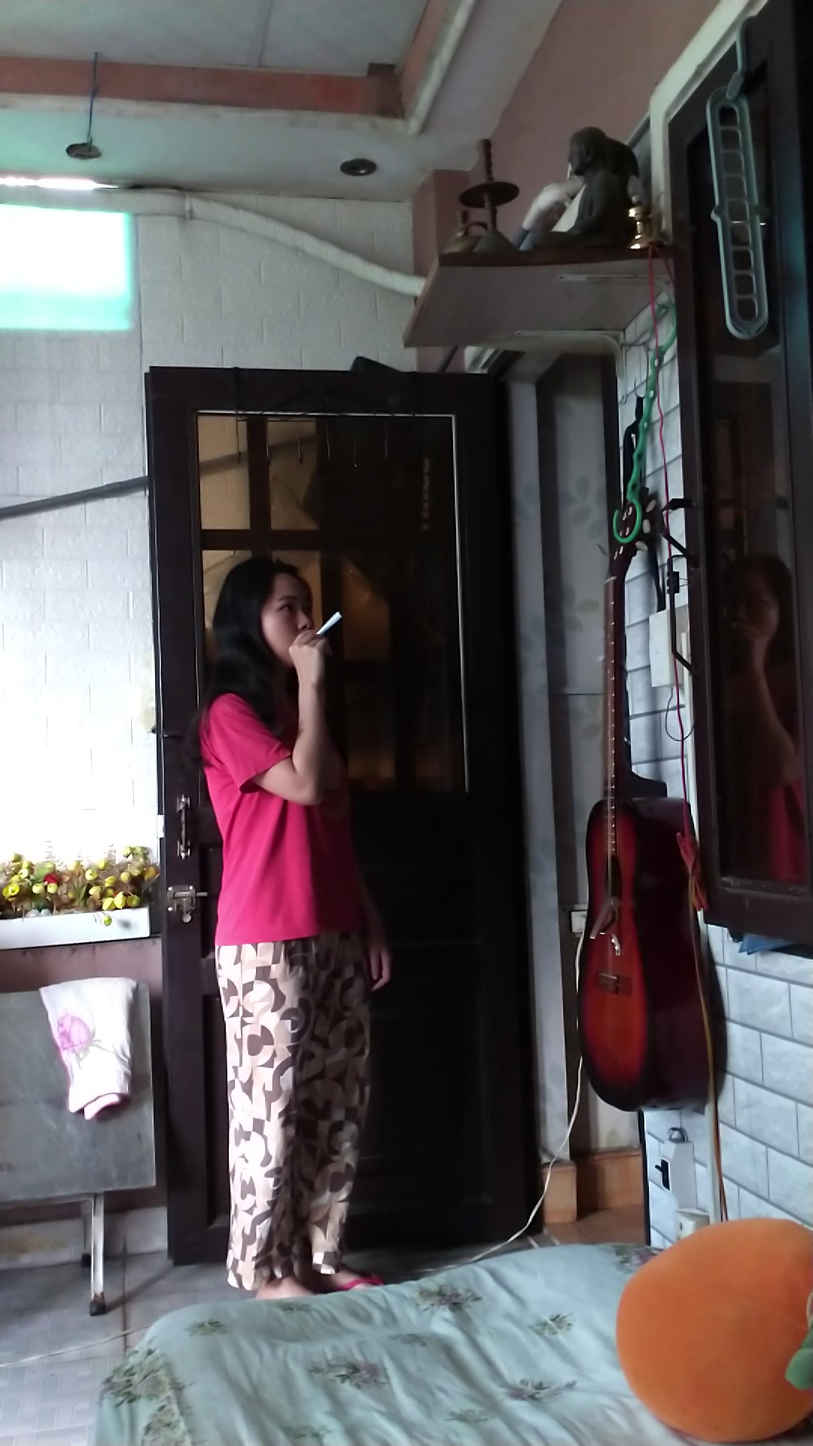cigarette: (315, 607, 346, 637)
person: (197, 537, 391, 1304)
